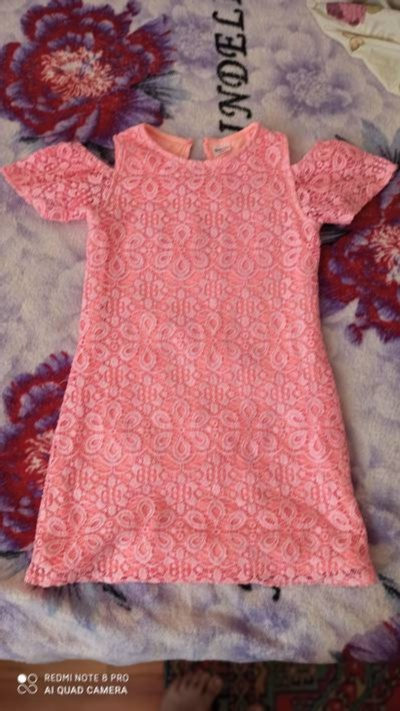Dress: (0, 90, 399, 612)
